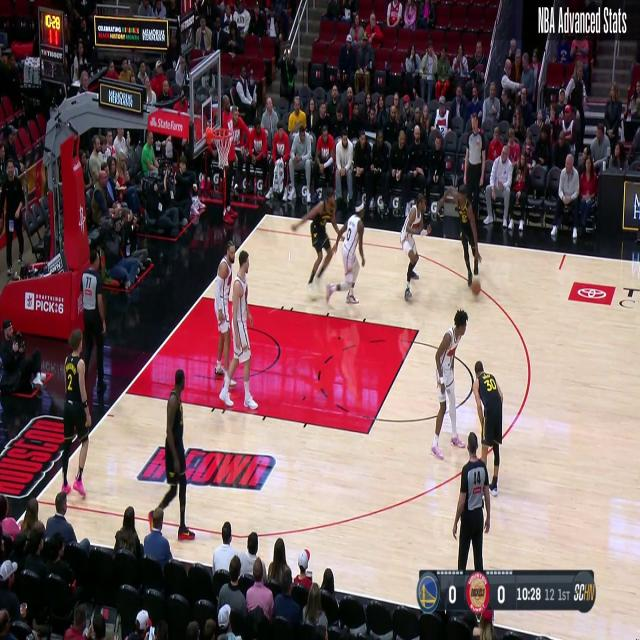ball: (470, 273, 482, 296)
judge: (452, 433, 490, 573), (463, 113, 486, 239)
player: (151, 374, 193, 528), (220, 254, 256, 412), (430, 314, 468, 456), (442, 184, 486, 300), (470, 356, 504, 503), (296, 188, 338, 300), (62, 334, 92, 486), (399, 188, 433, 308), (213, 236, 239, 392), (329, 199, 367, 304)
